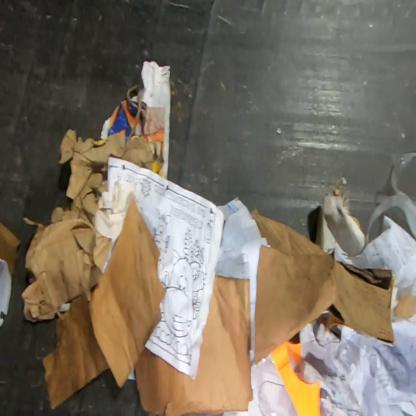cardboard: (42, 196, 167, 411), (250, 207, 395, 366), (134, 275, 254, 415), (313, 188, 365, 257), (0, 219, 22, 280), (393, 290, 415, 322)
soft_plastic: (364, 150, 416, 249)
